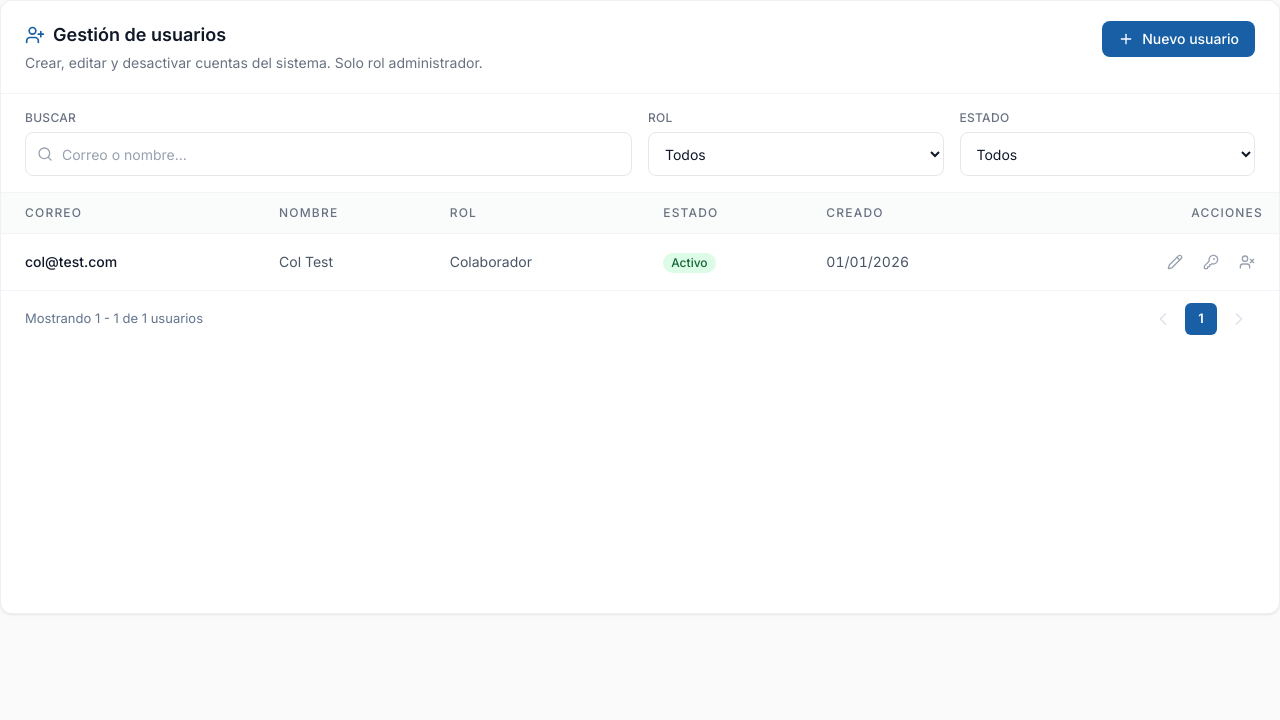
Test: UsuariosAdminPanel › abre modales de editar, desactivar y restablecer contraseña
Click the button named "editar col@test.com": (1175, 262) [1159,246,1191,278]
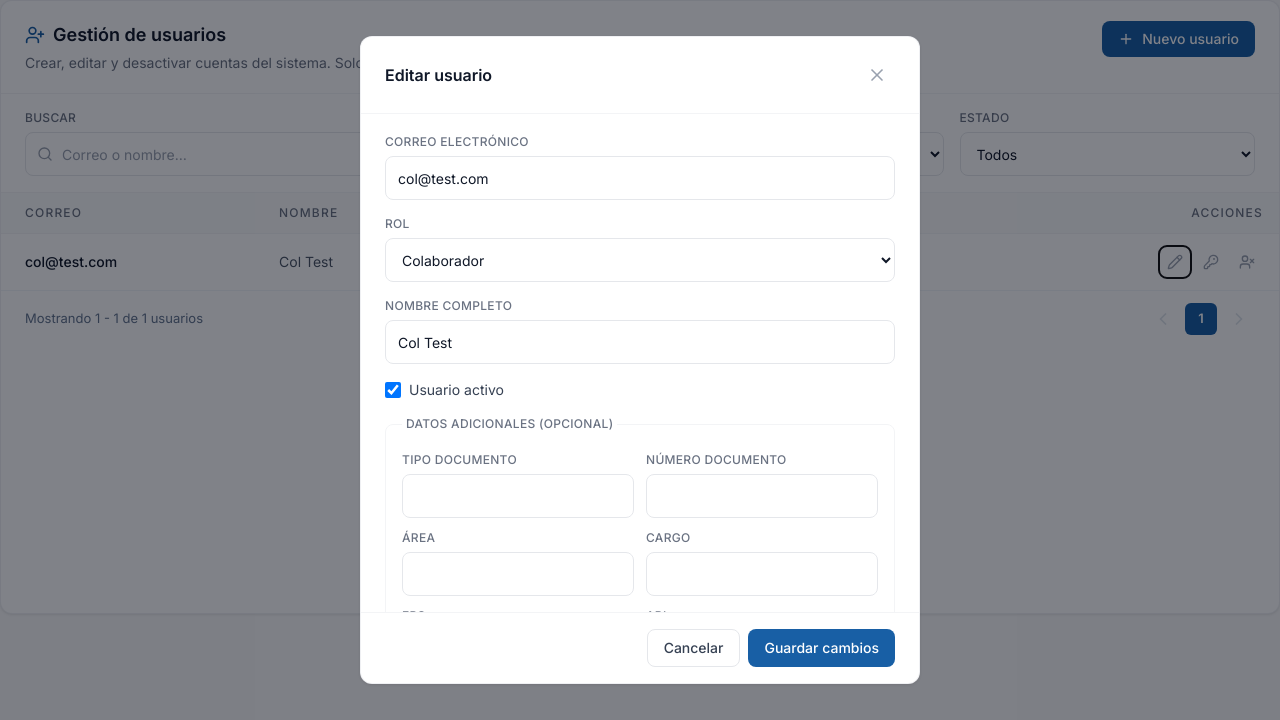
Result: the heading "Editar usuario" is shown at [385,63,492,87]
Click the button named "cerrar": (877, 75) [859,57,895,93]
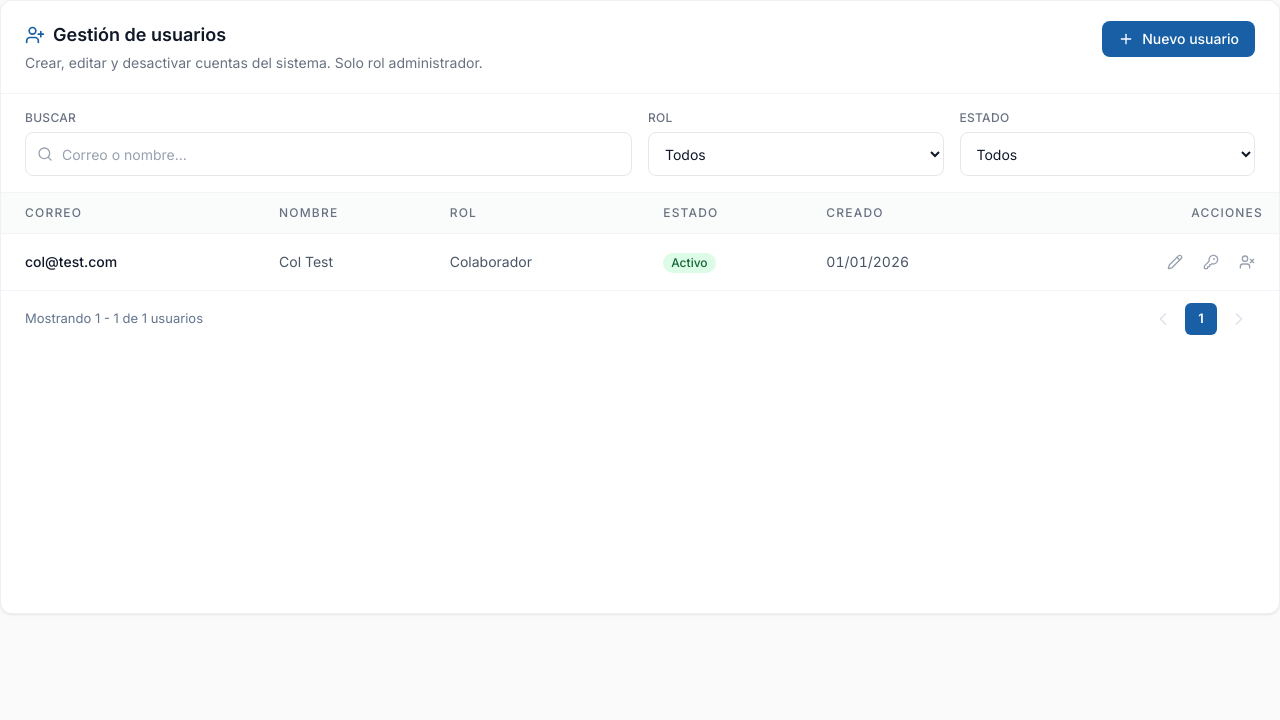
Click the button named "restablecer contraseña de col@test.com": (1211, 262) [1195,246,1227,278]
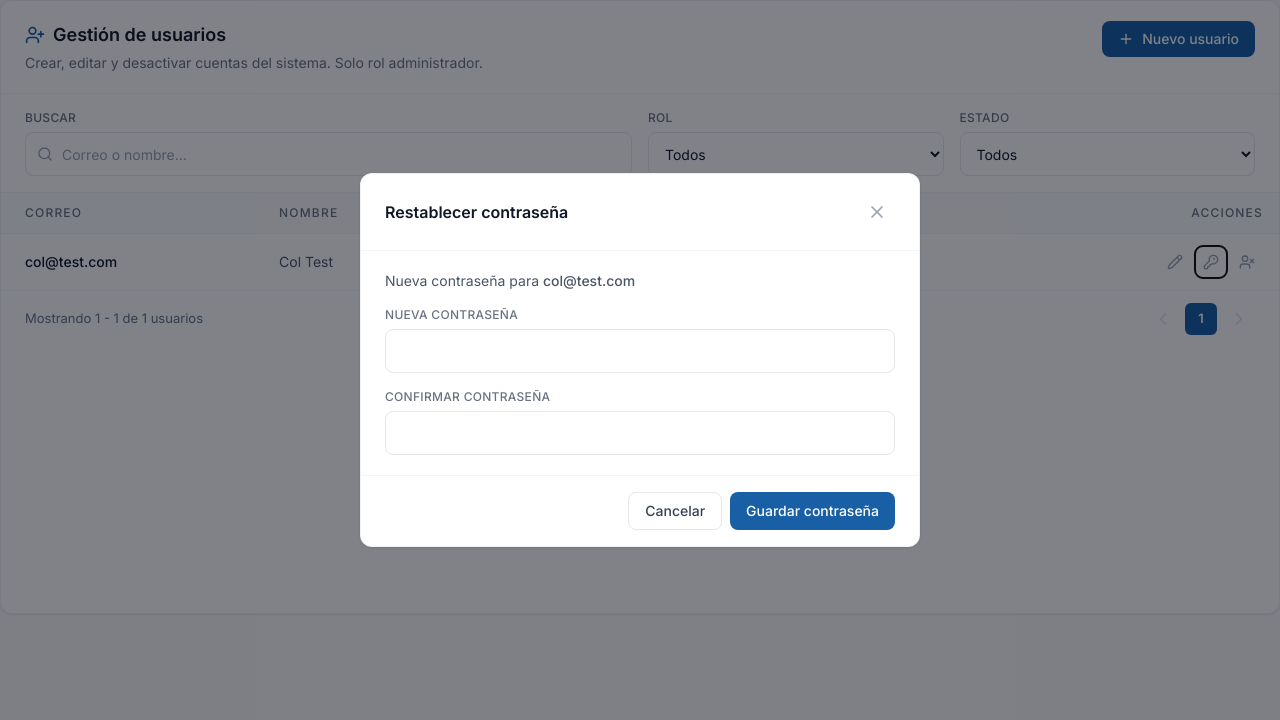
Result: the heading "Restablecer contraseña" is shown at [385,200,568,224]
Click the button named "cerrar": (877, 212) [859,194,895,230]
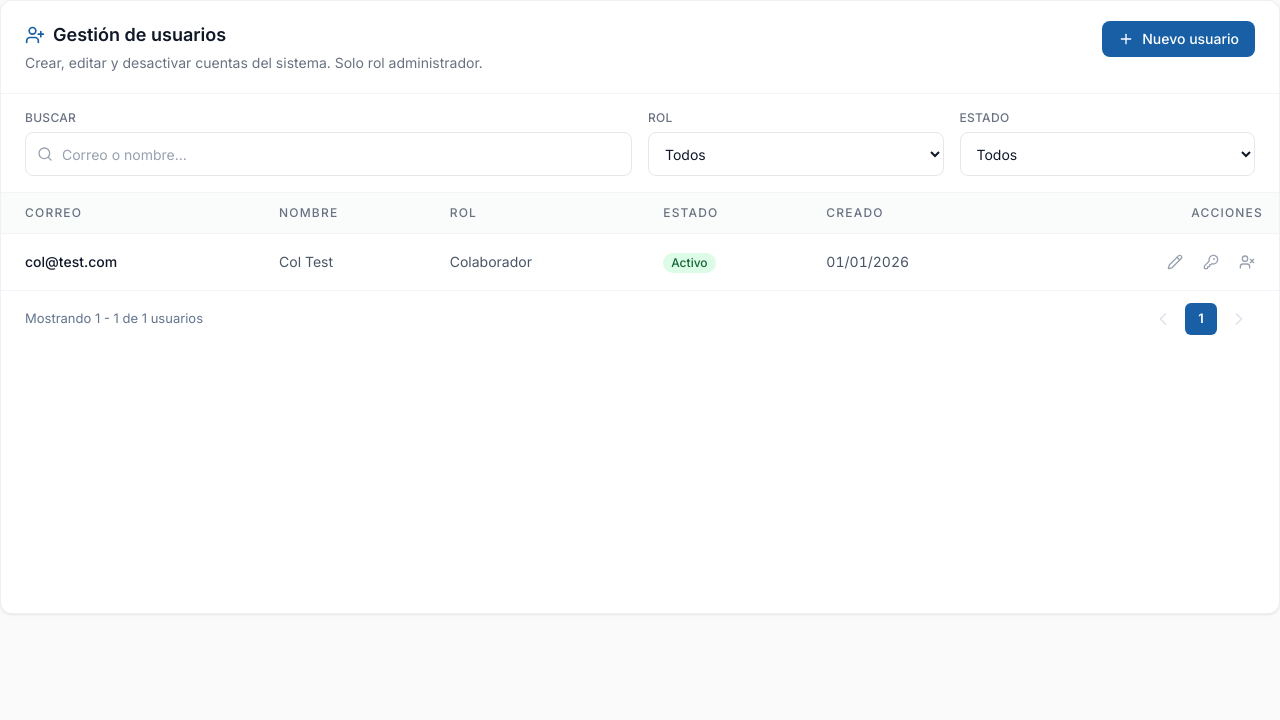
Click the button named "desactivar col@test.com": (1247, 262) [1231,246,1263,278]
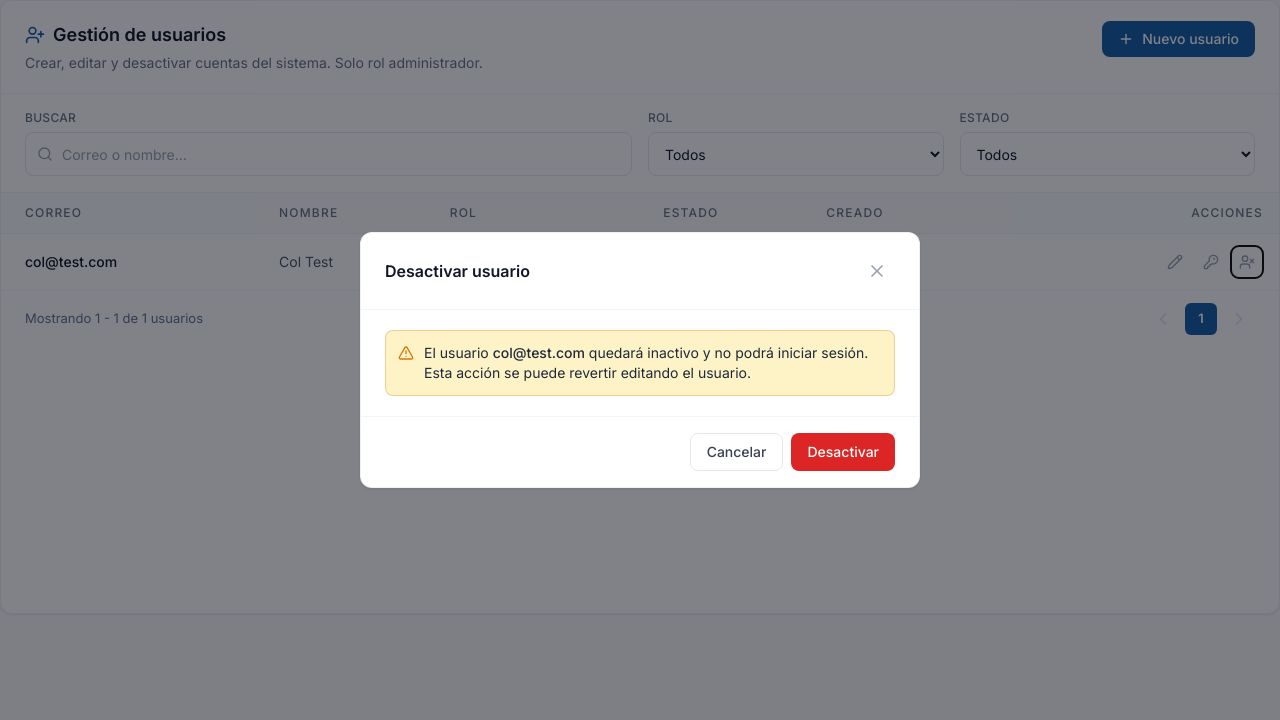
Result: the heading "Desactivar usuario" is shown at [385,259,530,283]
